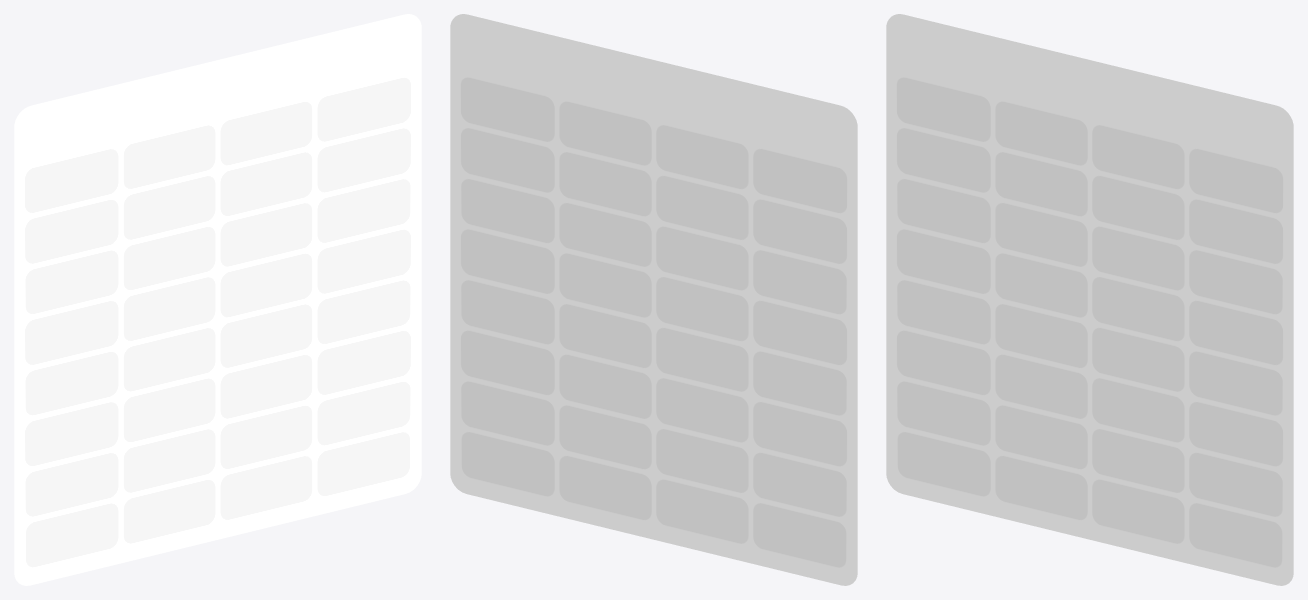
The model's file is calendar_bg_tall.glb.
3 renders of one model, left to right at view 1: azimuth 30°, elevation 25°; view 2: azimuth 150°, elevation 25°; view 3: azimuth 330°, elevation 25°, orthographic.
Parts seen in each view (by area): view 1: calendar_bg_tall; view 2: calendar_bg_tall; view 3: calendar_bg_tall.
Boxes of the visible parts, left/top/right/bottom form: calendar_bg_tall: left=14, top=14, right=421, bottom=585; calendar_bg_tall: left=450, top=14, right=857, bottom=585; calendar_bg_tall: left=886, top=14, right=1293, bottom=585.
Bounding box in the file's own units: 2 × 2.25 × 5.96e-08.
Materials: 1 (1 with a texture image).
